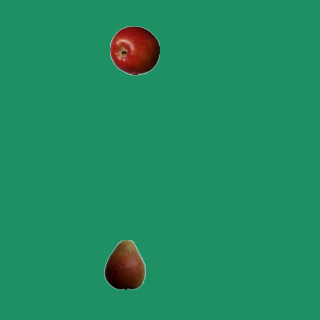Apple Braeburn: (109, 25, 159, 75)
Pear Forelle: (99, 239, 149, 289)
